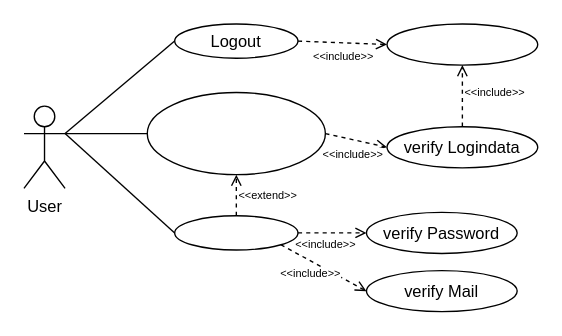
This 562x336 diagram has some shape labels left out. Each missing label, with the centre of its shape:
"Login -------------------------------- EP: registriert?" belongs at [235,133].
"Protokoll" belongs at [462,44].
"Register" belongs at [235,232].
